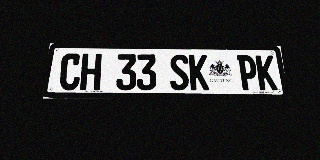3: (116, 54, 136, 90), (137, 54, 156, 90)
C: (58, 53, 82, 90)
H: (80, 54, 102, 90)
K: (255, 55, 278, 90), (189, 55, 209, 90)
P: (237, 55, 259, 90)
S: (170, 54, 190, 90)
